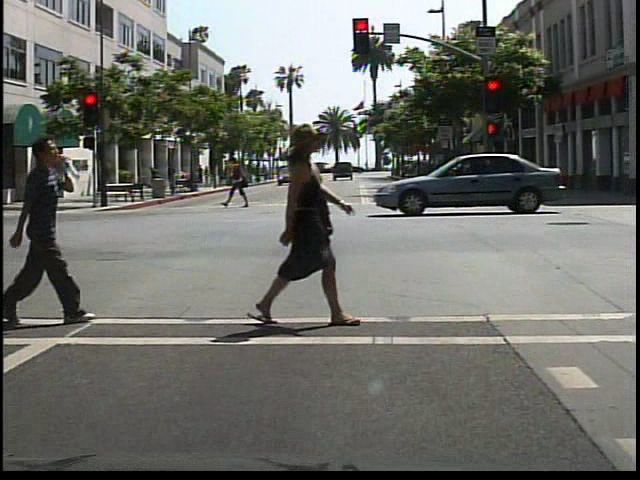person: (245, 128, 361, 335), (11, 129, 91, 327), (225, 155, 252, 209), (147, 164, 168, 195)
